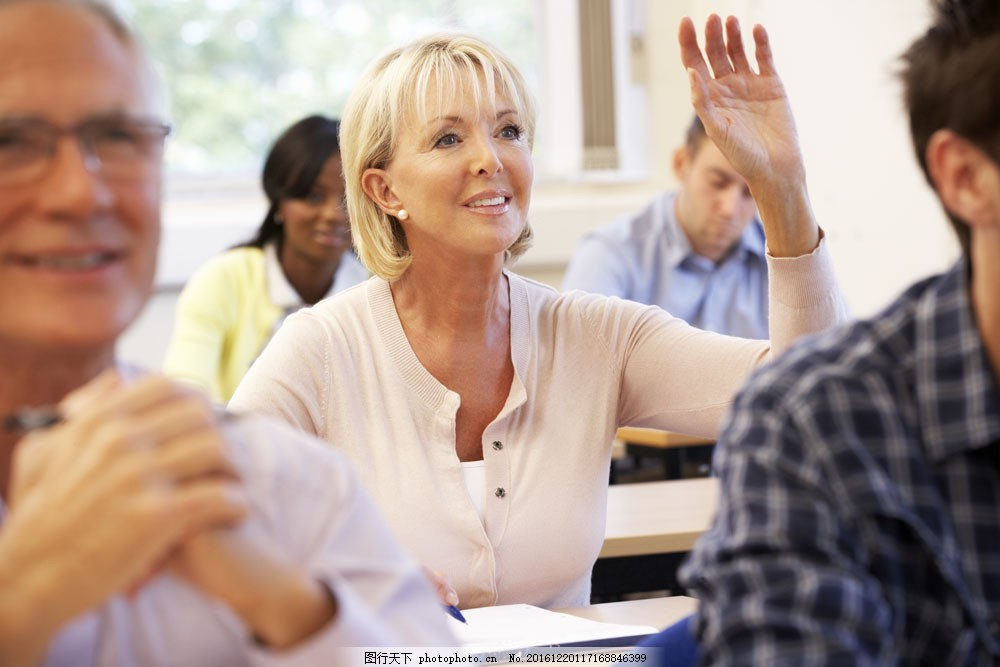handsup: (234, 12, 837, 638)
